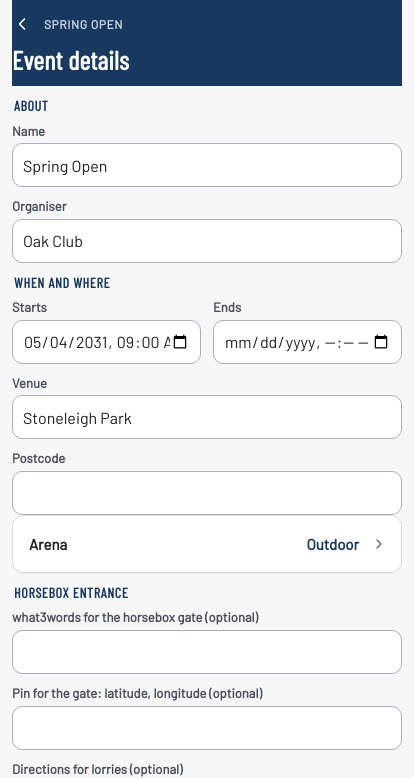
Test: horsebox entrance on the organiser’s event details › refuses words that are not a what3words address
Type "second gate" into the field labelled "what3words for the horsebox gate (optional)". click: point(207, 652)
box: [12,630,402,674]
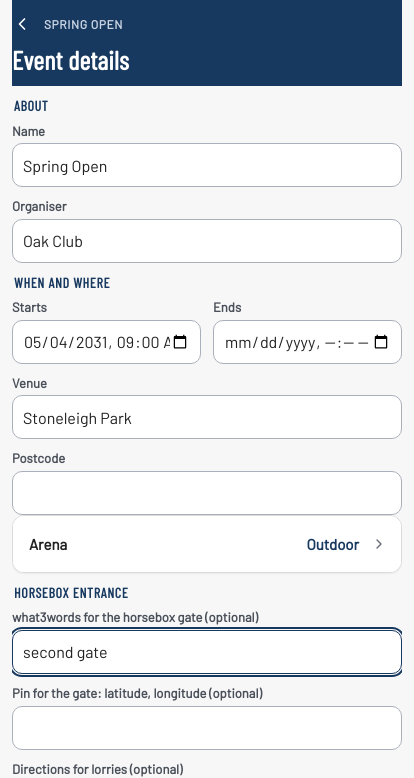
Press Tab
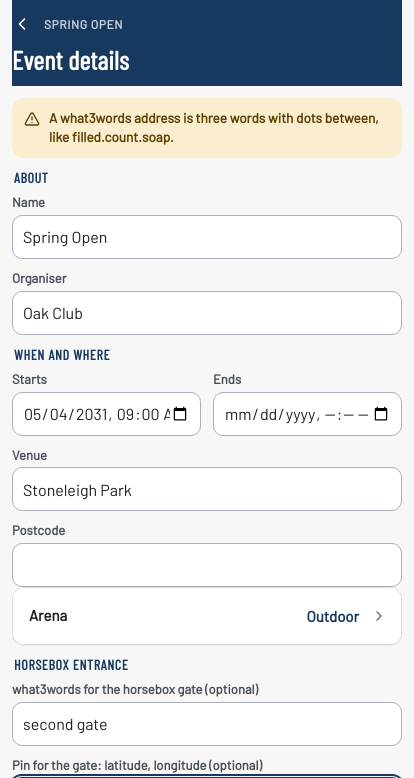
Now the message shows "three words with dots between", box [49,109,378,145]
